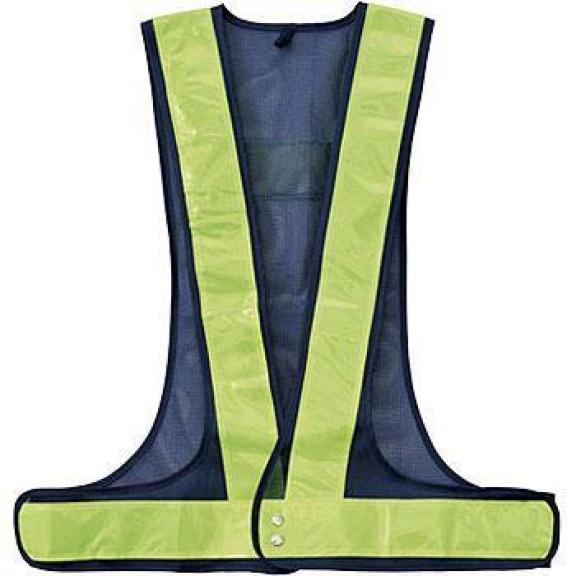safety_vest: (4, 0, 561, 574)
